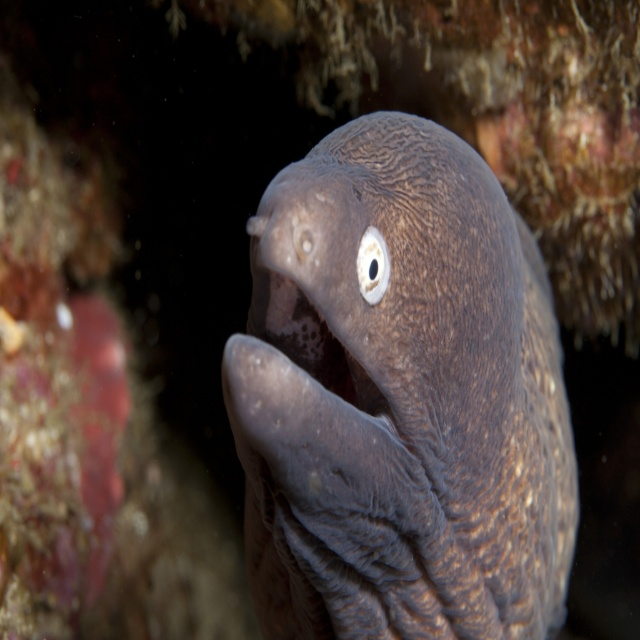Fish: (222, 107, 581, 638)
